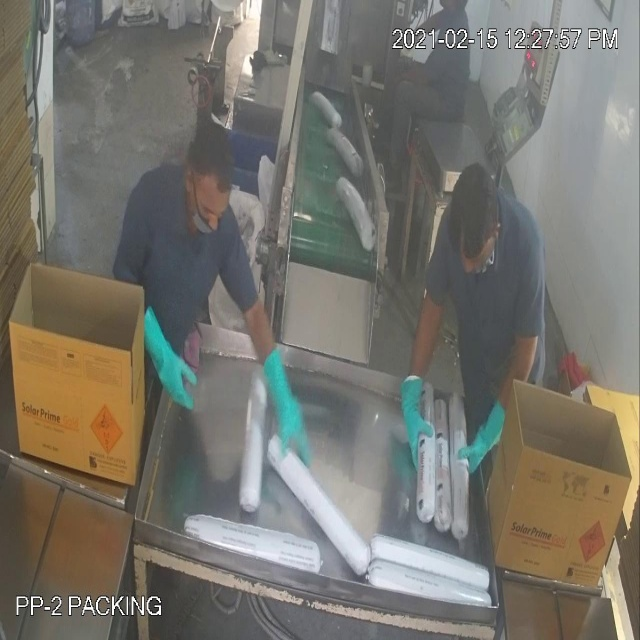Guantes: (127, 285, 198, 424), (248, 326, 319, 465), (385, 350, 442, 474), (459, 387, 518, 491)
